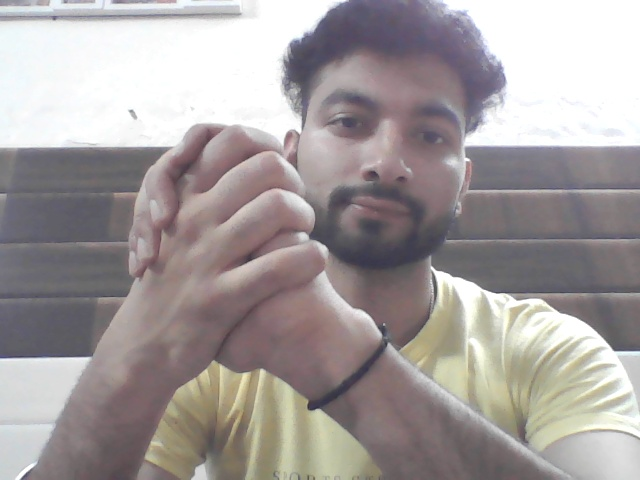Thank You: (117, 110, 336, 415)
